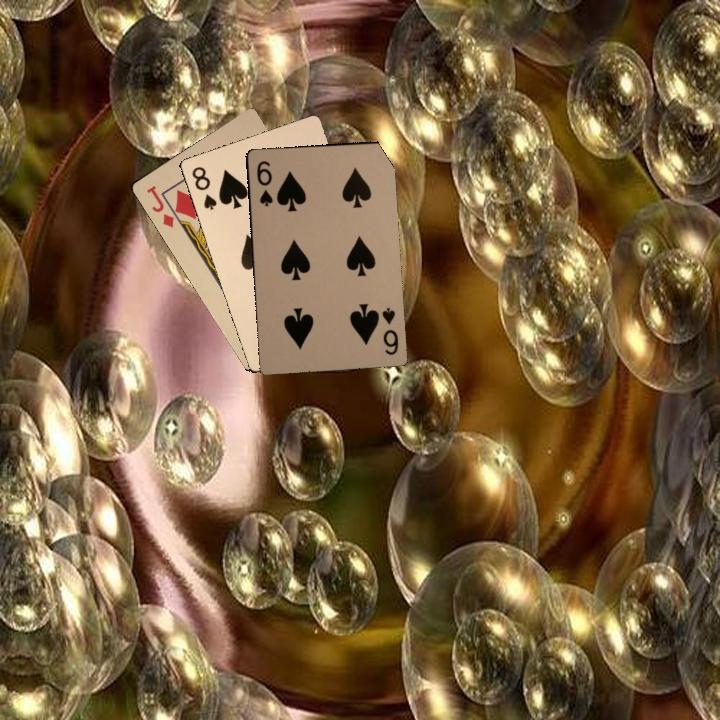6s: (378, 303, 401, 358), (253, 157, 275, 209)
8s: (188, 162, 219, 212)
Jd: (142, 182, 176, 230)
